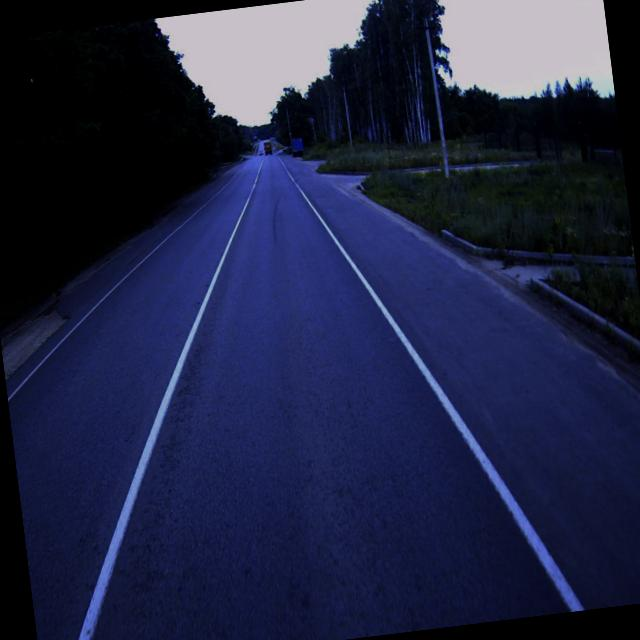road: (5, 152, 640, 640)
